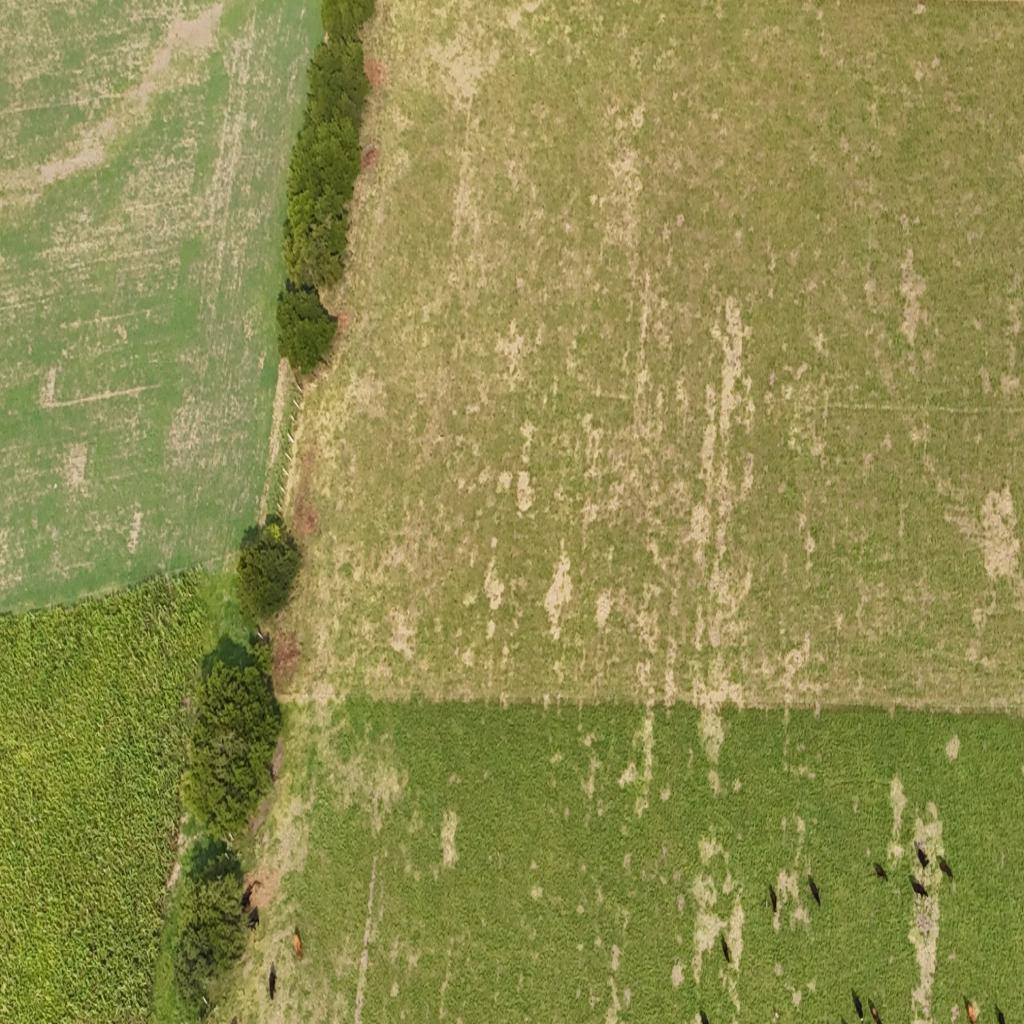cow: (808, 876, 822, 908), (851, 989, 864, 1023), (240, 882, 255, 911), (246, 907, 260, 933), (938, 858, 955, 878), (868, 998, 881, 1024), (720, 932, 731, 962), (910, 881, 928, 899), (874, 863, 889, 884), (917, 846, 930, 868), (965, 1003, 978, 1024), (293, 934, 303, 961), (769, 888, 778, 914), (268, 971, 276, 1000), (772, 1008, 780, 1022)
